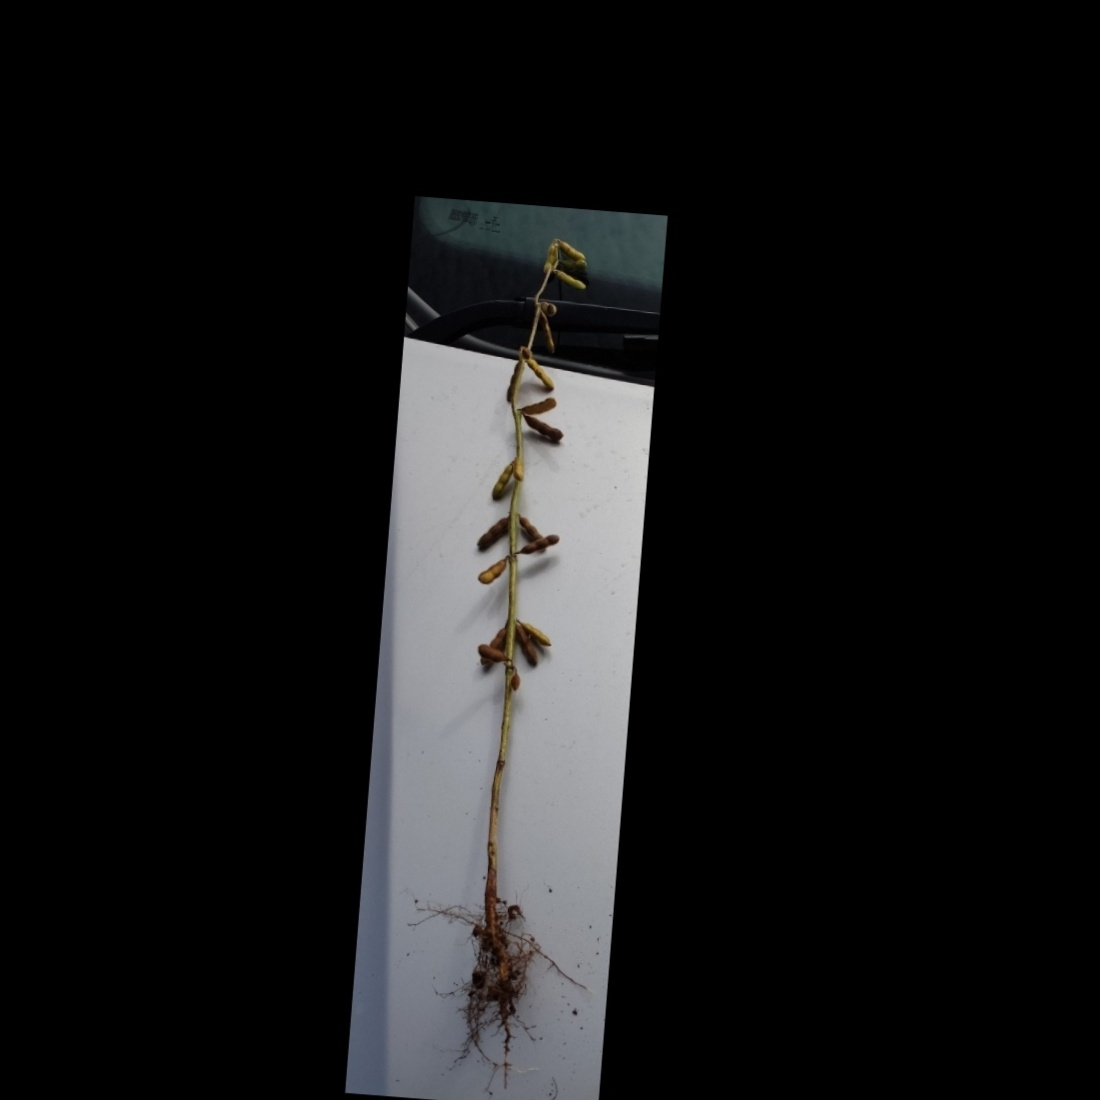pod: (515, 352, 558, 394), (515, 411, 568, 444), (510, 621, 543, 670), (514, 527, 562, 560), (474, 510, 512, 552), (487, 457, 517, 507), (531, 308, 559, 356), (473, 556, 512, 587), (513, 618, 555, 647), (549, 237, 590, 265), (548, 266, 589, 292)
soy: (424, 224, 633, 1040)
